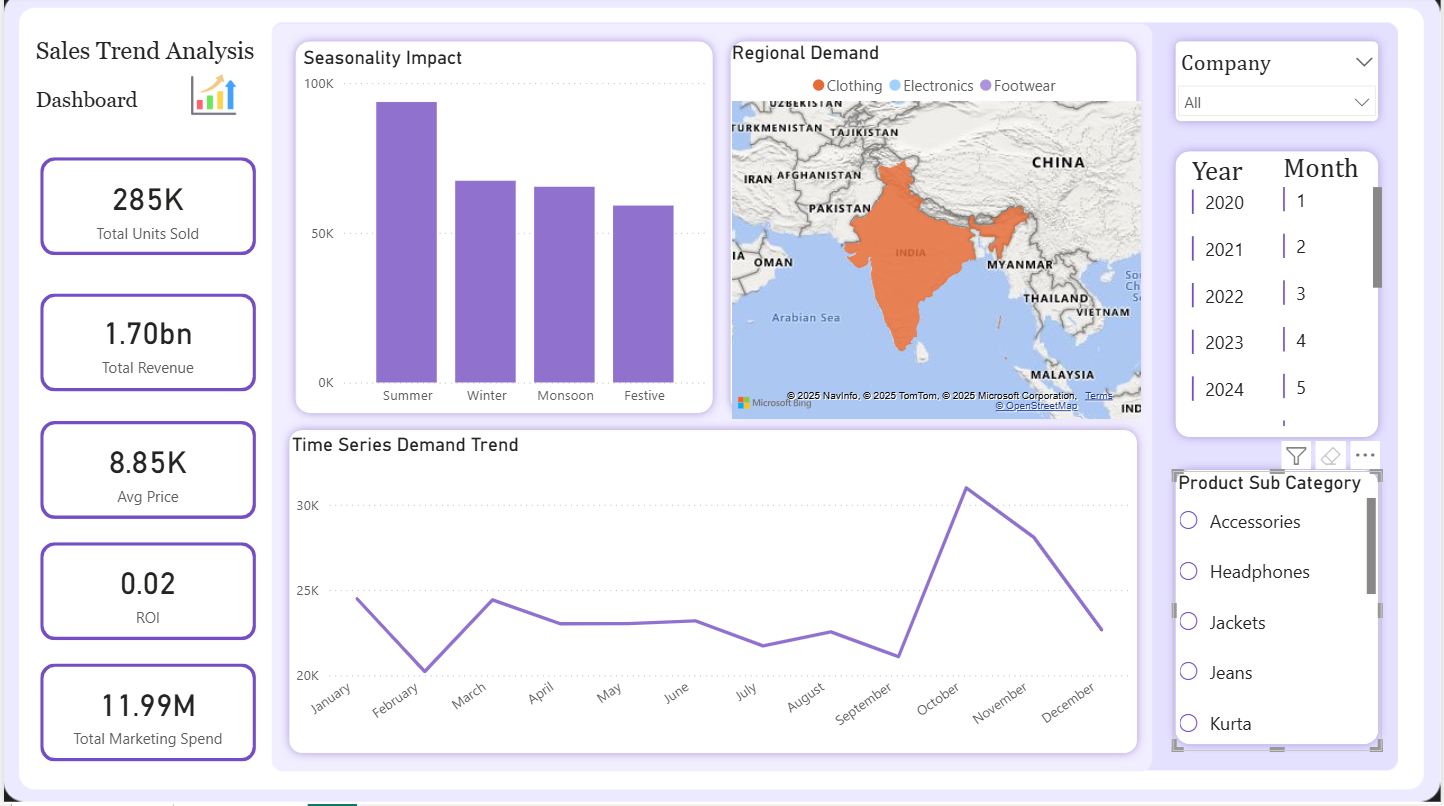

The page's visual inventory and layout, read from the dashboard file:
{"tool":"powerbi","page":{"name":"Sales & Demand ","canvas":[1280,720],"ordinal":0},"visuals":[{"type":"shape","box":[32.5,143.4,192.2,87.2],"z":0},{"type":"shape","box":[245.9,379,771.1,303.8],"z":1000},{"type":"lineChart","title":"Time Series Demand Trend","fields":{"Category":["Sales.Date.Variation.Date Hierarchy.Month","Sales.Date.Variation.Date Hierarchy.Day"],"Y":["Sum(Sales.Units_Sold)"]},"box":[251.7,389.2,755.2,283.5],"z":2000},{"type":"shape","box":[251.7,31.8,387.7,347.2],"z":3000},{"type":"shape","box":[639.4,31.8,377.6,347.2],"z":4000},{"type":"clusteredColumnChart","title":"Seasonality Impact","fields":{"Category":["Sales.Season"],"Y":["Sum(Sales.Units_Sold)"]},"box":[261.8,44.8,370.3,329.8],"z":5000},{"type":"filledMap","title":"Regional Demand","fields":{"Category":["Sales.Region/Location"],"Series":["Sales.Product_Category"]},"box":[643.1,39.9,374,341.5],"z":6000},{"type":"shape","box":[1034.9,32.5,196.6,87.2],"z":7000},{"type":"slicer","fields":{"Values":["Sales.Company_Name"]},"box":[1034.9,44.4,196.6,69.5],"z":8000},{"type":"shape","box":[1034.9,130.1,196.6,270.5],"z":9000},{"type":"multiRowCard","title":"Year","fields":{"Values":["Sales.Year"]},"box":[1052.6,143.4,81.3,246.9],"z":10000},{"type":"textbox","box":[23.7,32.5,208.5,35.5],"z":11000},{"type":"shape","box":[1034.9,414,196.6,260.2],"z":12000},{"type":"multiRowCard","title":"Month","fields":{"Values":["Sales.Month"]},"box":[1133.9,141.9,97.6,246.9],"z":13000},{"type":"card","fields":{"Values":["_Measures.Total_units_sold"]},"box":[32.5,144.9,192.2,87.2],"z":14000},{"type":"shape","box":[32.5,264.6,192.2,87.2],"z":15000},{"type":"card","fields":{"Values":["_Measures.Total Revenue"]},"box":[32.5,264.6,192.2,85.7],"z":16000},{"type":"shape","box":[32.5,486.4,192.2,87.2],"z":17000},{"type":"shape","box":[32.5,378.5,192.2,87.2],"z":18000},{"type":"card","fields":{"Values":["_Measures.Avg_price"]},"box":[32.5,380,192.2,85.7],"z":19000},{"type":"shape","box":[32.5,594.3,192.2,87.2],"z":20000},{"type":"textbox","box":[23.7,76.9,105,35.5],"z":21000},{"type":"image","box":[149.3,62.1,75.4,51.7],"z":22000},{"type":"listSlicer","fields":{"Values":["Sales.Product_SubCategory"]},"box":[1040.8,422.8,186.3,249.9],"z":23000},{"type":"card","fields":{"Values":["_Measures.ROI"]},"box":[32.5,487.9,192.2,85.7],"z":24000},{"type":"card","fields":{"Values":["_Measures.Total Marketing Spend"]},"box":[32.5,595.8,192.2,85.7],"z":25000}]}

Visuals, with their boxes in screenshot pixels (x1, y1, x2, y2), scaled from the page's 1280x720 canvas onto the 1444x806 screenshot:
shape: Rect(37, 161, 253, 258)
shape: Rect(277, 424, 1147, 764)
"Time Series Demand Trend" lineChart: Rect(284, 436, 1136, 753)
shape: Rect(284, 36, 721, 424)
shape: Rect(721, 36, 1147, 424)
"Seasonality Impact" clusteredColumnChart: Rect(295, 50, 713, 419)
"Regional Demand" filledMap: Rect(725, 45, 1147, 427)
shape: Rect(1167, 36, 1389, 134)
slicer - Sales.Company_Name: Rect(1167, 50, 1389, 128)
shape: Rect(1167, 146, 1389, 448)
"Year" multiRowCard: Rect(1187, 161, 1279, 437)
textbox: Rect(27, 36, 262, 76)
shape: Rect(1167, 463, 1389, 755)
"Month" multiRowCard: Rect(1279, 159, 1389, 435)
card - _Measures.Total_units_sold: Rect(37, 162, 253, 260)
shape: Rect(37, 296, 253, 394)
card - _Measures.Total Revenue: Rect(37, 296, 253, 392)
shape: Rect(37, 544, 253, 642)
shape: Rect(37, 424, 253, 521)
card - _Measures.Avg_price: Rect(37, 425, 253, 521)
shape: Rect(37, 665, 253, 763)
textbox: Rect(27, 86, 145, 126)
image: Rect(168, 70, 253, 127)
listSlicer - Sales.Product_SubCategory: Rect(1174, 473, 1384, 753)
card - _Measures.ROI: Rect(37, 546, 253, 642)
card - _Measures.Total Marketing Spend: Rect(37, 667, 253, 763)
